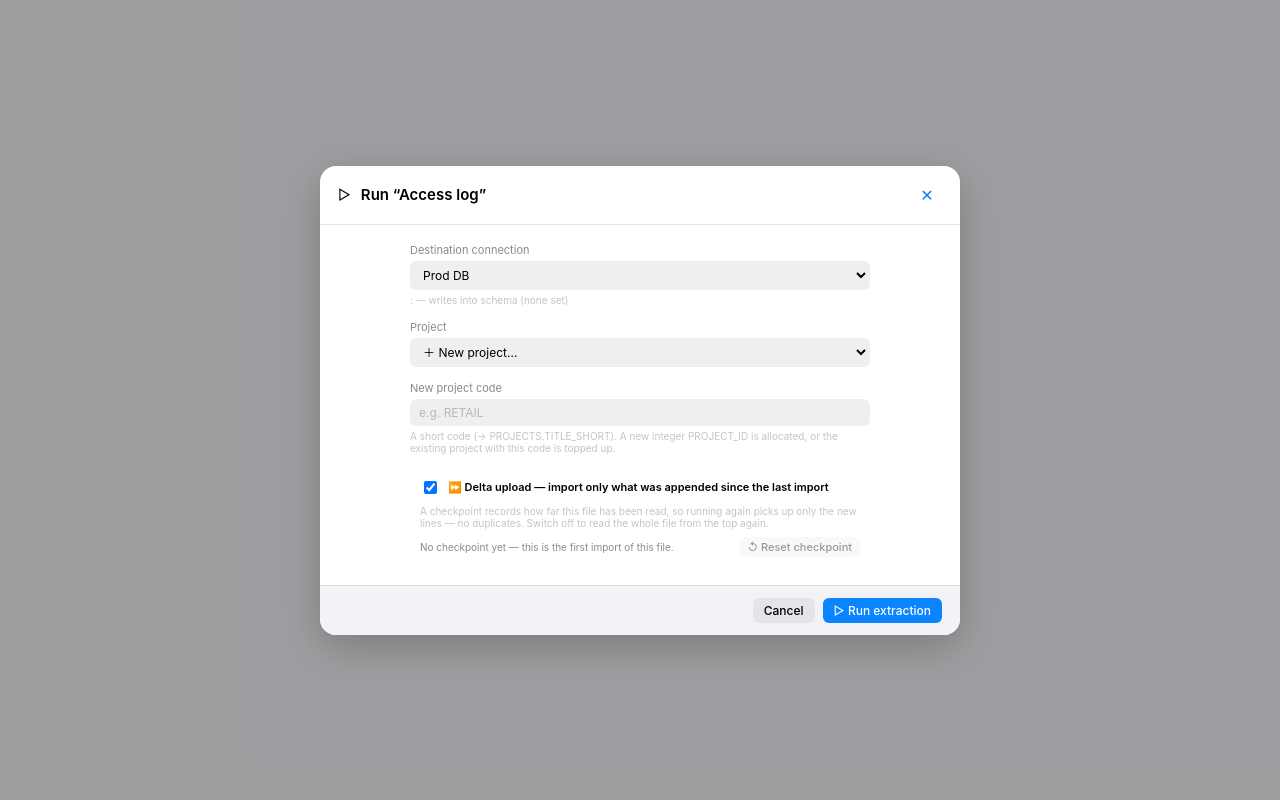
Test: RunSourceDialog › defaults the destination to the active connection and runs a new project
The image size is (1280, 800).
Type "P1" into the field with placeholder "e.g. RETAIL".
click(640, 412); type("P1")  # box [410, 398, 870, 426]
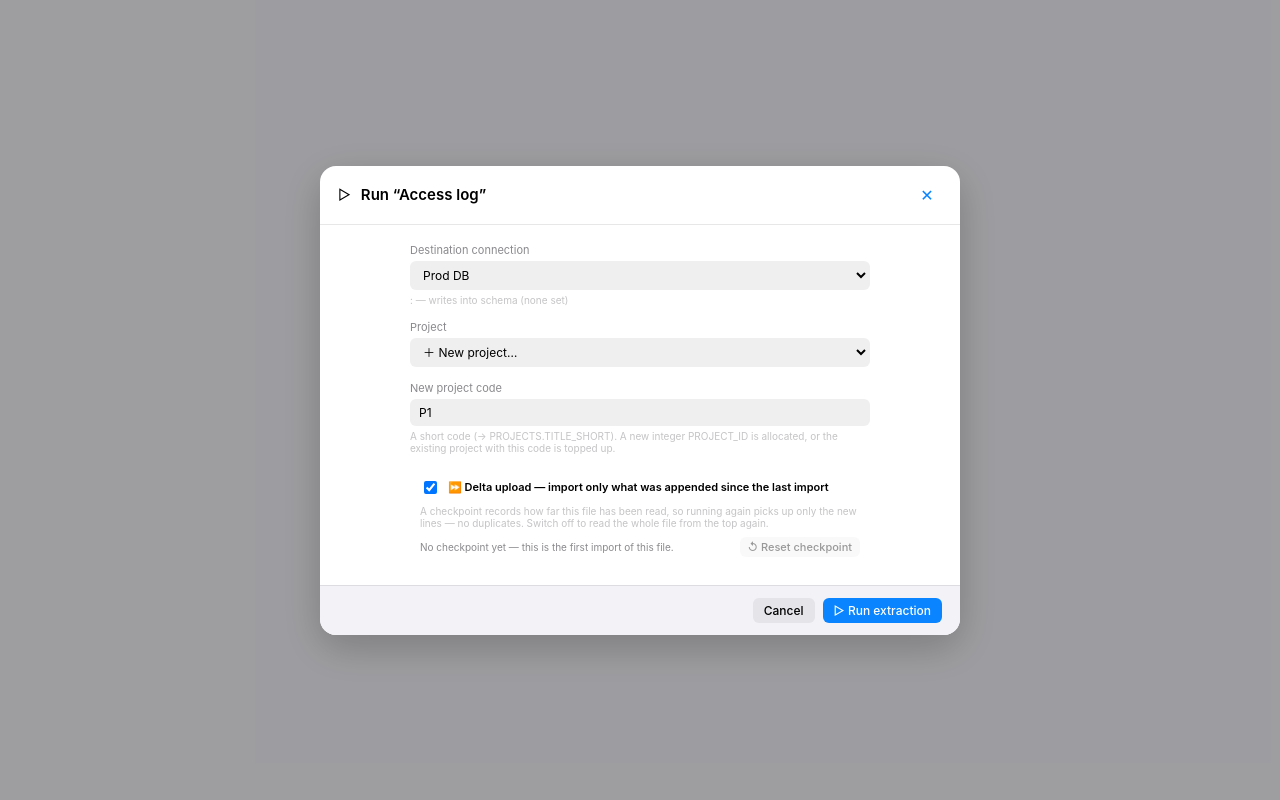
Click the button "▷ Run extraction".
click(882, 610)  # box [823, 598, 942, 622]
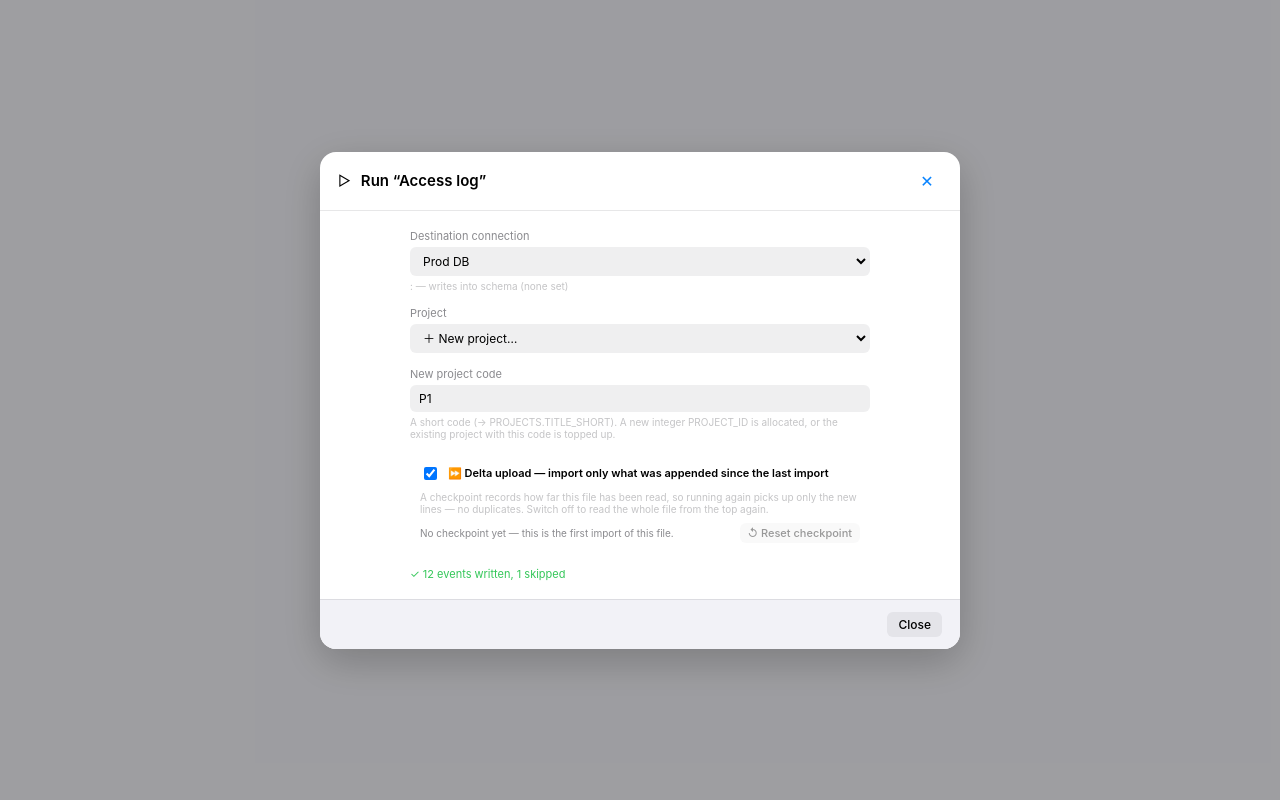
expect the text "✓ 12 events written, 1 skipped" is shown: met, box [410, 566, 566, 580]
